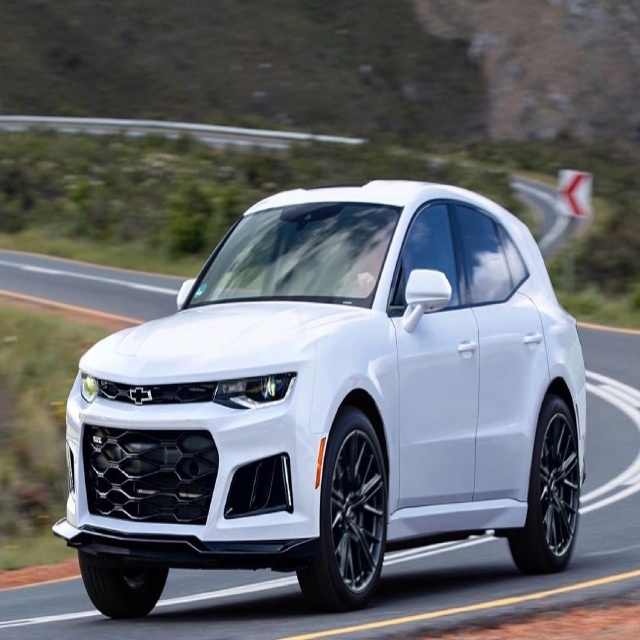Car: (51, 179, 588, 621)
